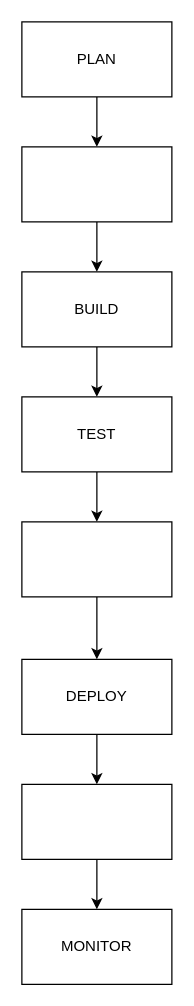
Some shapes in this 194 by 1006 pixel diagram are drawn without their labels. The shapes that lost their labels are listed below. From the top down, each one's box as (x1, y1, x2, y2) in pixels, then its label:
(21, 146, 172, 222): DEVOLOP
(21, 521, 172, 597): RELEASE
(21, 783, 172, 859): OPERATE
